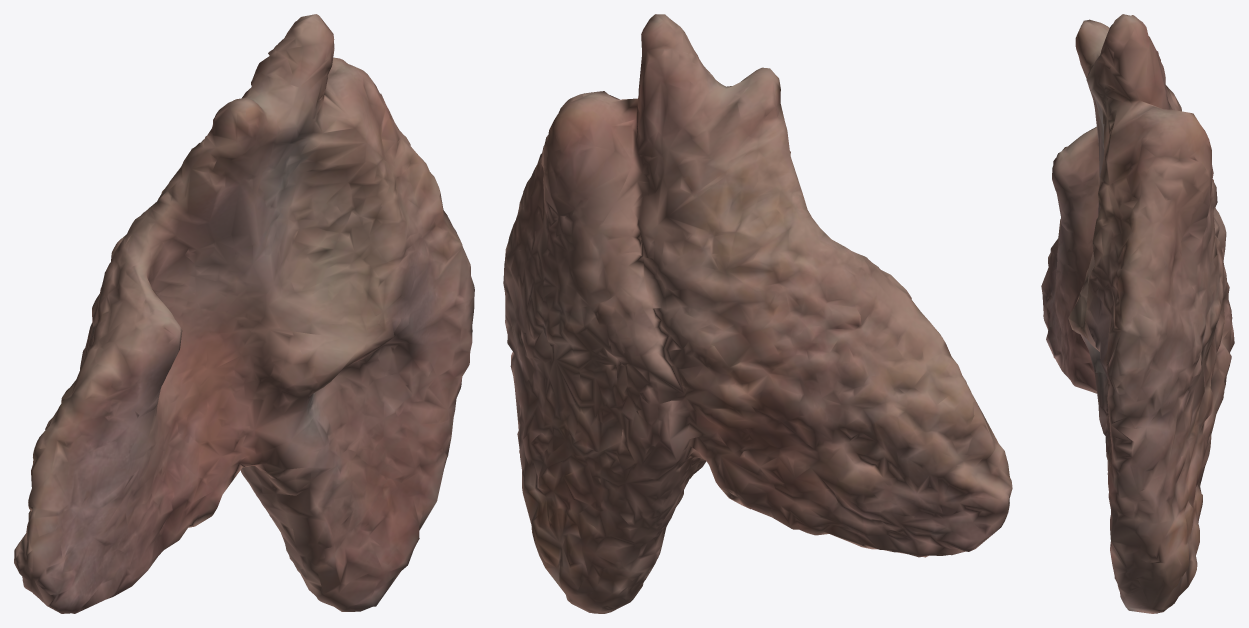
The model's file is thymus.glb.
The picture shows the model from 3 angles, left to right: view 1: azimuth 30°, elevation 25°; view 2: azimuth 150°, elevation 25°; view 3: azimuth 270°, elevation 25°; orthographic projection. The views are drawn at different scales.
Visible parts, largest first — view 1: tripo_node_51f4692f-1a41-474d-98bc-4b5d7aa9b8b9; view 2: tripo_node_51f4692f-1a41-474d-98bc-4b5d7aa9b8b9; view 3: tripo_node_51f4692f-1a41-474d-98bc-4b5d7aa9b8b9.
Boxes of the visible parts, box(x1,y1,x2,y2) form: tripo_node_51f4692f-1a41-474d-98bc-4b5d7aa9b8b9: box(14, 14, 474, 613); tripo_node_51f4692f-1a41-474d-98bc-4b5d7aa9b8b9: box(503, 14, 1012, 613); tripo_node_51f4692f-1a41-474d-98bc-4b5d7aa9b8b9: box(1041, 14, 1234, 613).
Size of the model in its own units: 0.808 by 0.9771 by 0.2986.
Materials: 1 (1 with a texture image).
